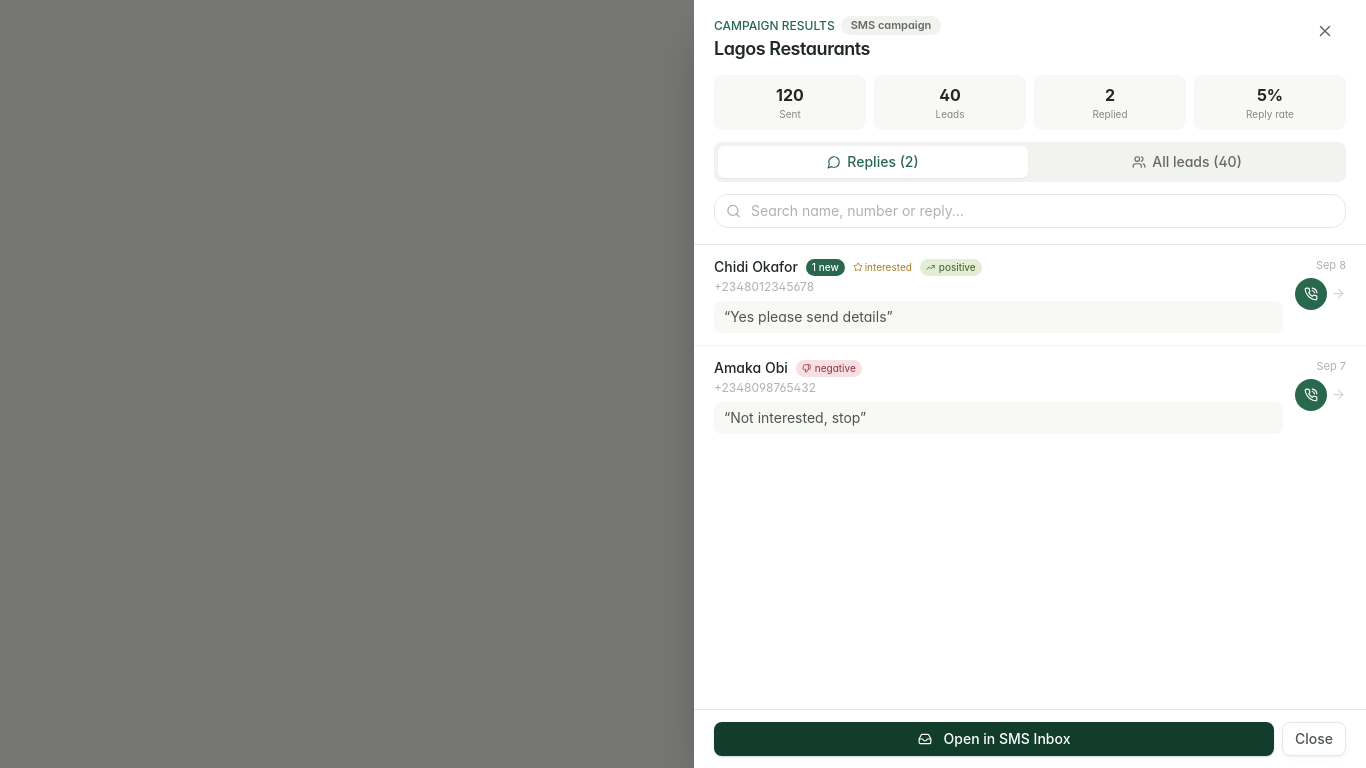
Test case: CampaignRepliesDrawer — campaign to reply to chat › the All leads tab includes people who never replied
Expected: the text "Chidi Okafor" is shown, [714,257,798,277]
Click the button "All leads (40)": (1187, 162) [1032,146,1342,178]
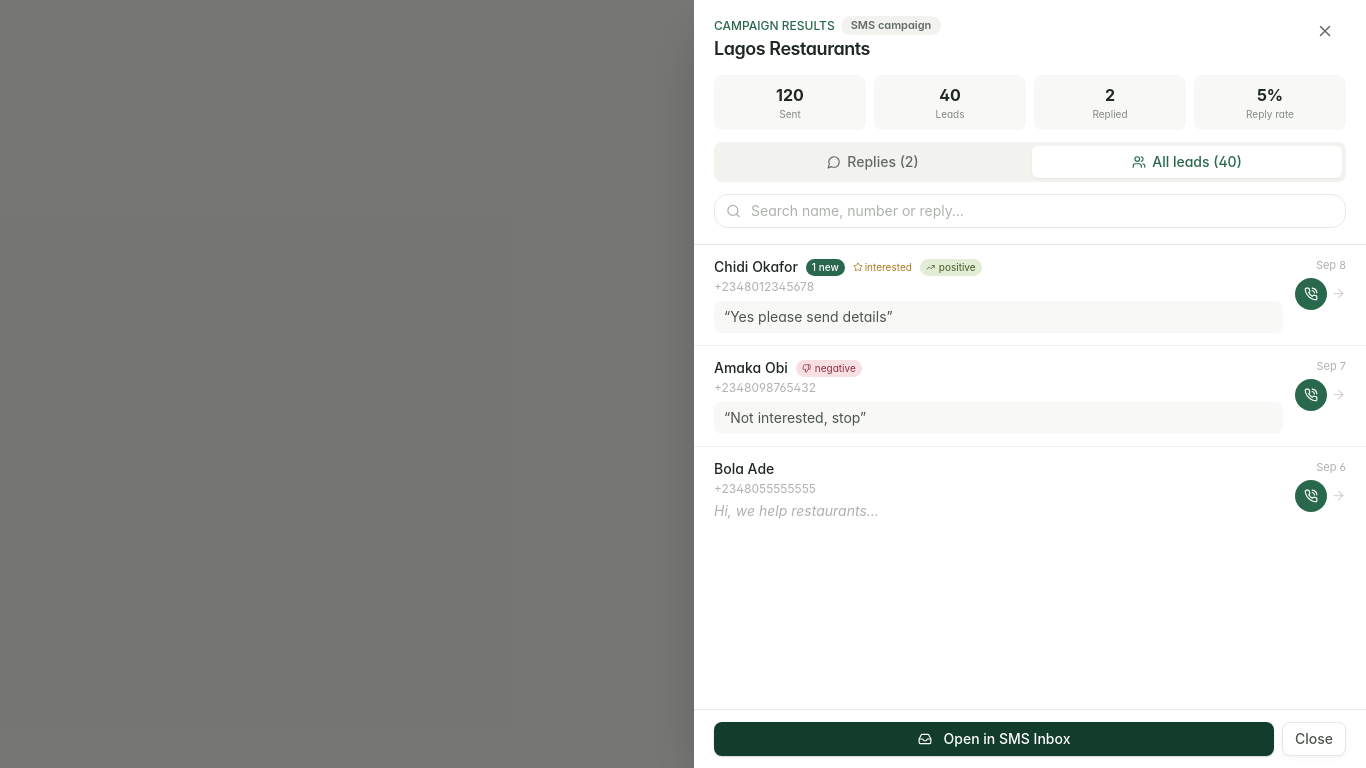
Now the text "Bola Ade" is shown, box [714,459,774,479]
